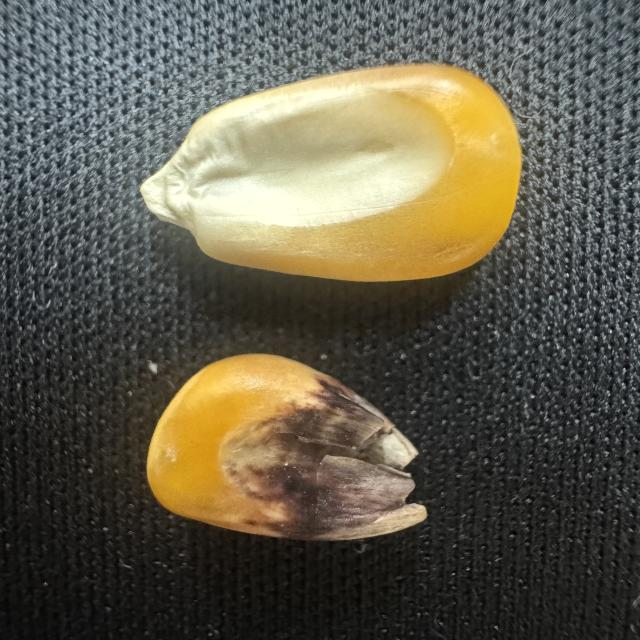Bad-Seed: (140, 347, 439, 562)
Good-Seed: (123, 51, 533, 293)
